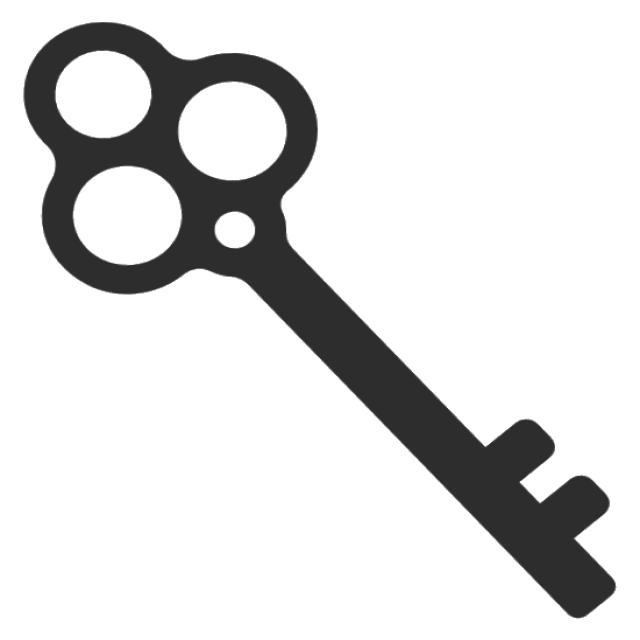key: (7, 18, 632, 627)
